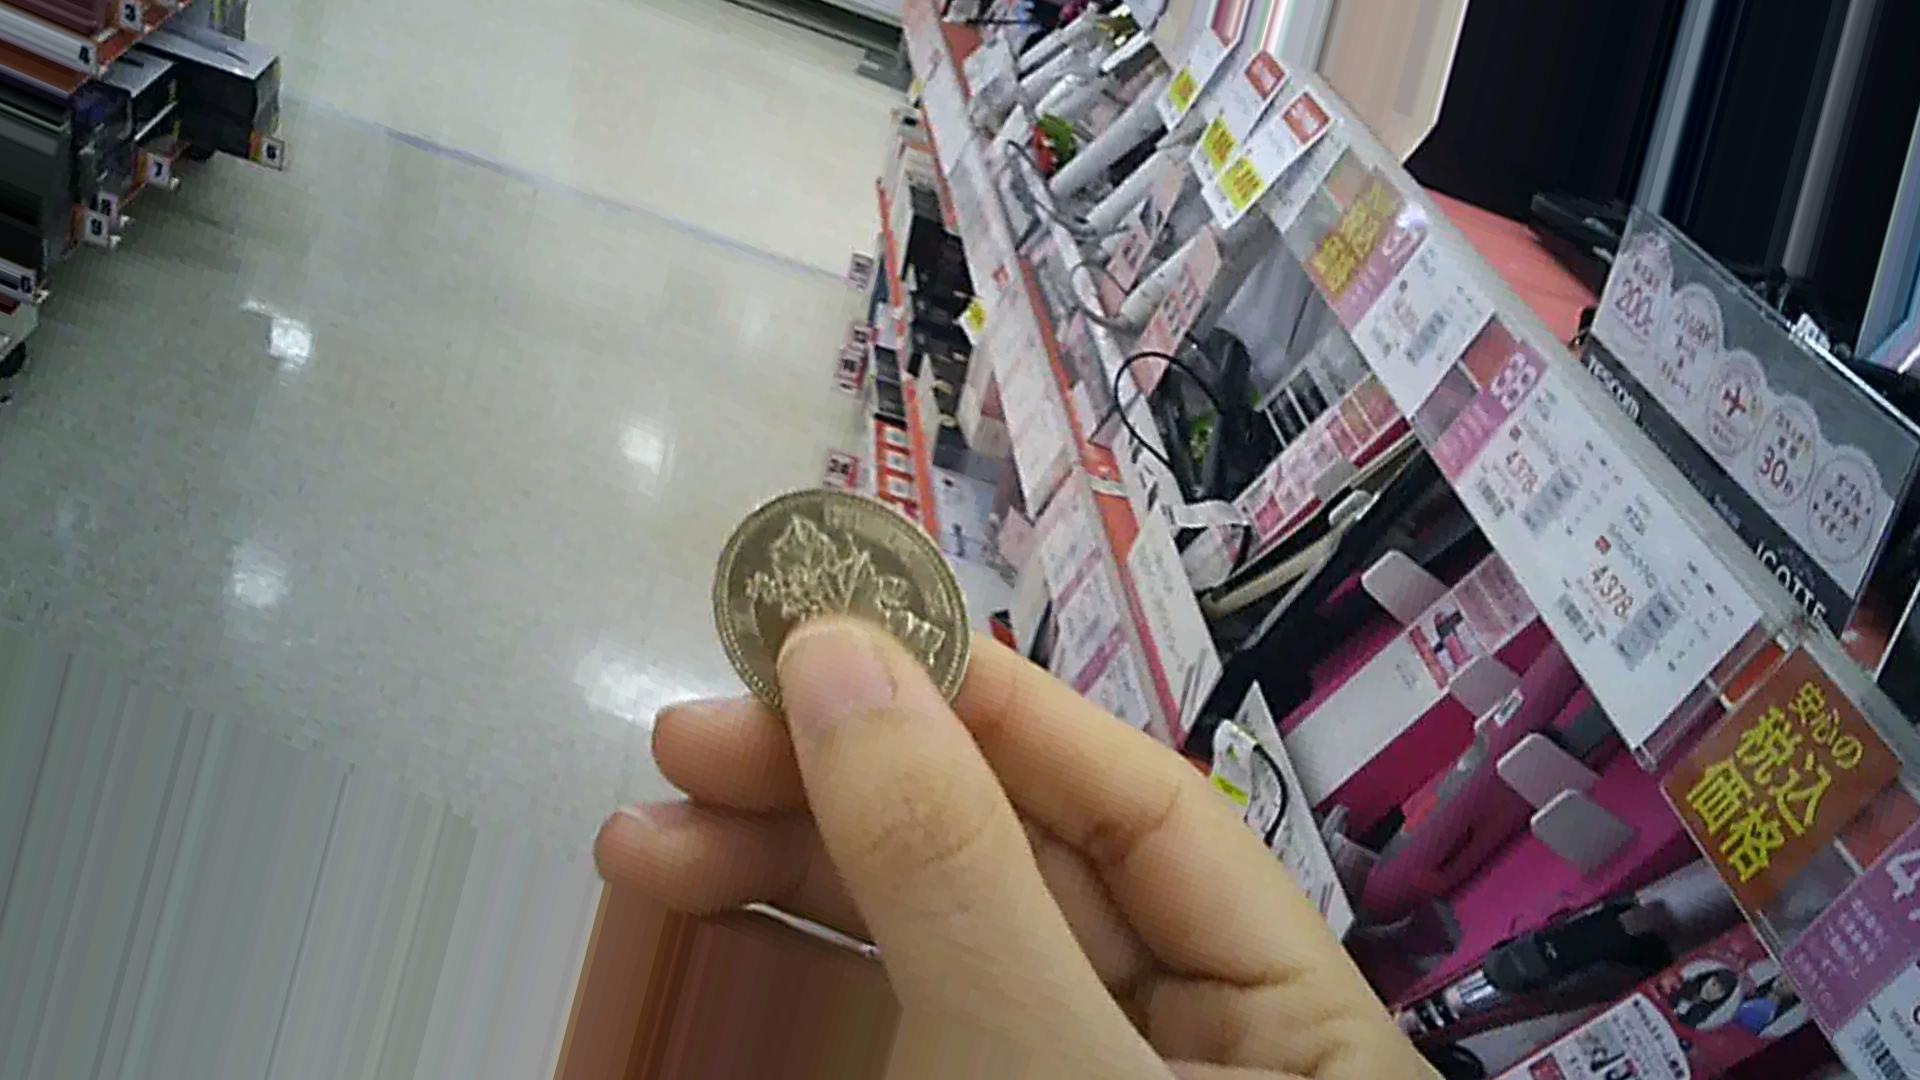500 Yen: (696, 476, 973, 723)
